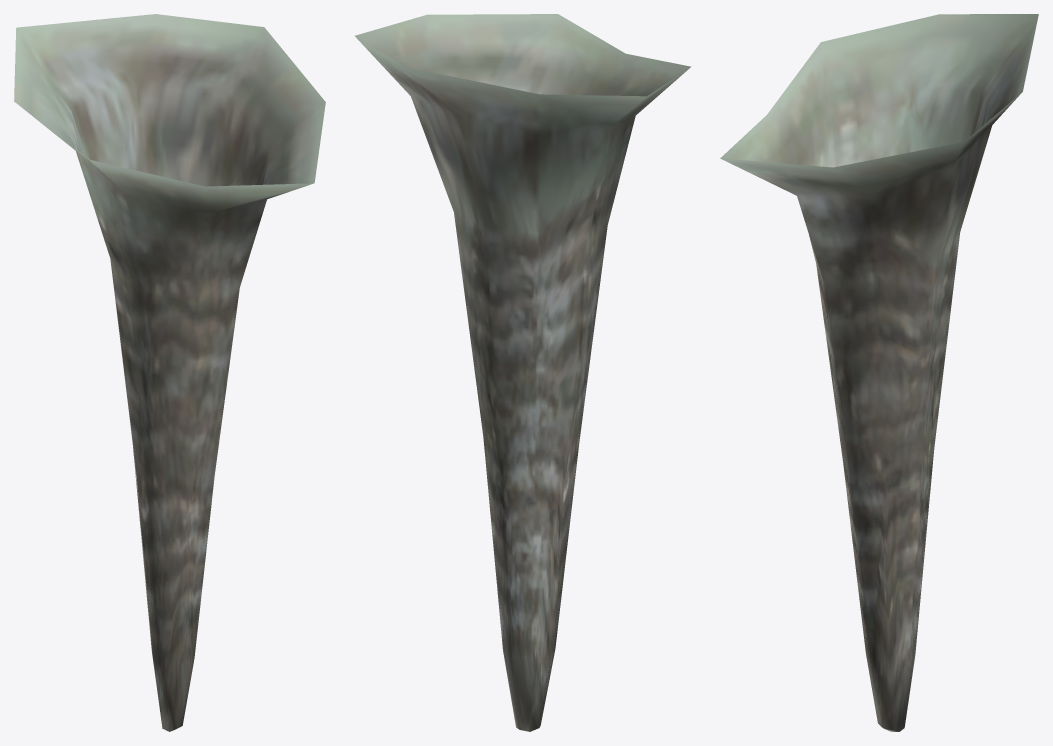
The model's file is TROLLHOLE02_PS-UPPERSTALAG14.fbx.
The picture shows the model from 3 angles, left to right: view 1: azimuth 30°, elevation 25°; view 2: azimuth 150°, elevation 25°; view 3: azimuth 270°, elevation 25°; orthographic projection. The views are drawn at different scales.
Parts seen in each view (by area): view 1: TROLLHOLE02_PS-UPPERSTALAG14; view 2: TROLLHOLE02_PS-UPPERSTALAG14; view 3: TROLLHOLE02_PS-UPPERSTALAG14.
Boxes of the visible parts, x1,y1,x2,y2 form: TROLLHOLE02_PS-UPPERSTALAG14: (14,14,325,731); TROLLHOLE02_PS-UPPERSTALAG14: (355,14,691,731); TROLLHOLE02_PS-UPPERSTALAG14: (720,14,1038,731).
Size of the model in its own units: 10963 by 26756 by 11425.
1 material, 1 textured.
